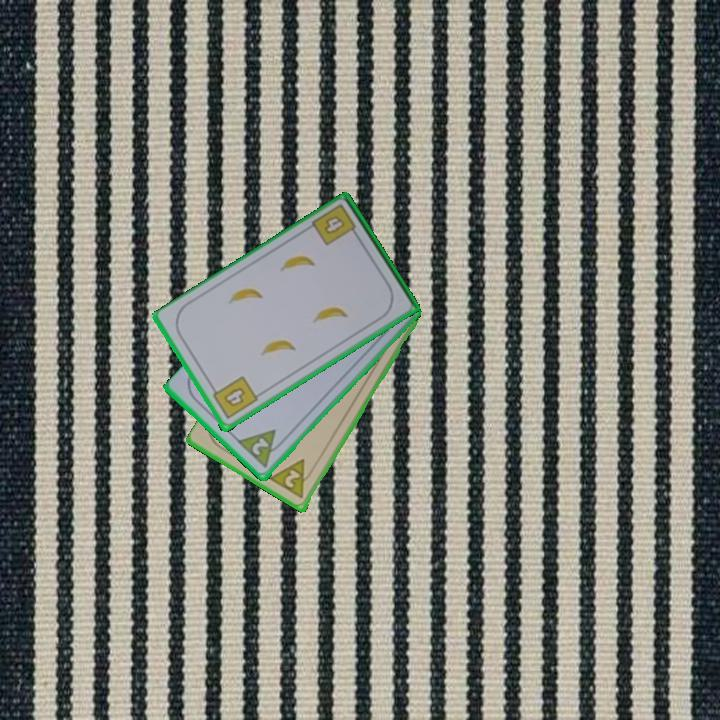2p: (267, 456, 319, 502), (248, 434, 271, 459)
4b: (207, 373, 260, 422), (320, 212, 348, 238)
